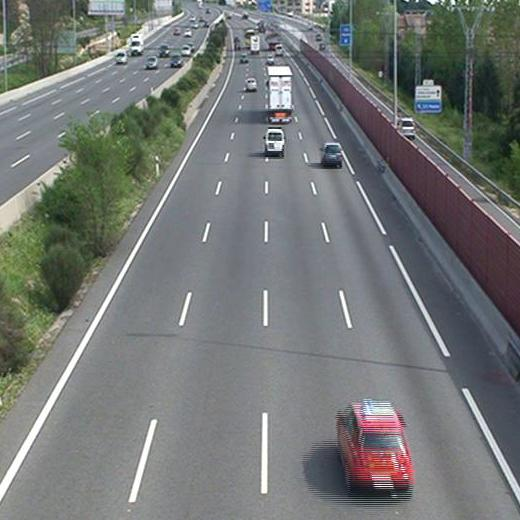car: (335, 400, 414, 492), (321, 142, 344, 169), (244, 78, 256, 92), (238, 53, 248, 63)
truck: (268, 64, 295, 124), (250, 36, 260, 55)
van: (262, 127, 287, 157), (273, 44, 285, 55)
